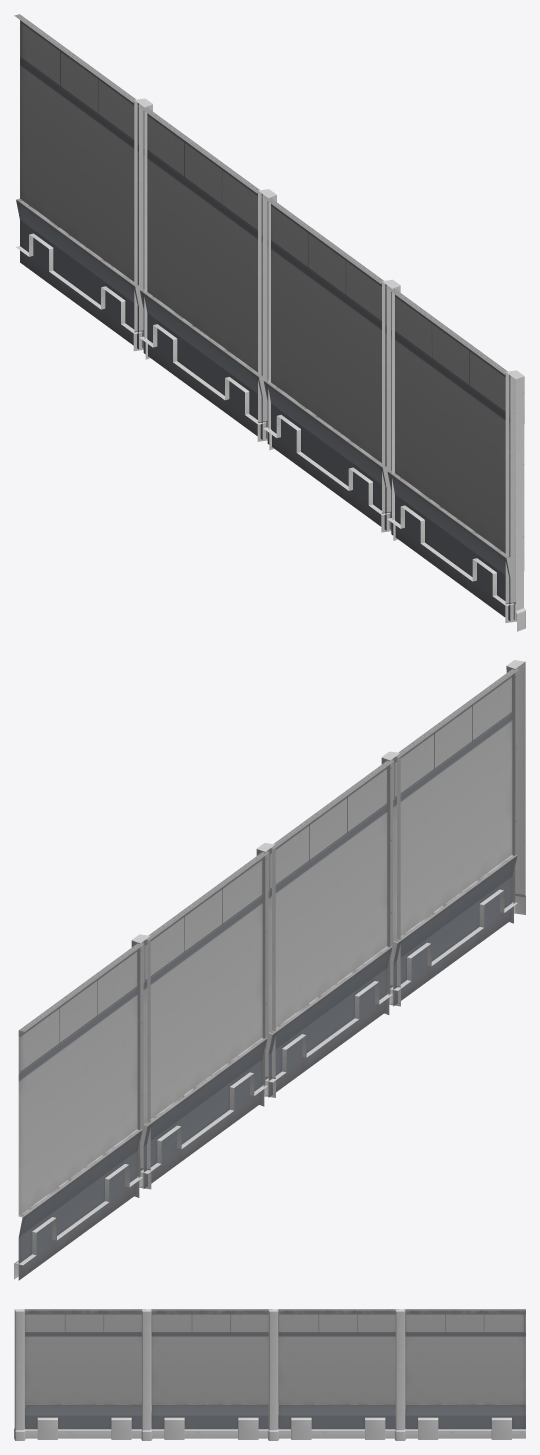
File: Pfb_JALB_WallPart2_Line__7.fbx
3 renders of one model, top to bottom at view 1: azimuth 30°, elevation 25°; view 2: azimuth 150°, elevation 25°; view 3: azimuth 270°, elevation 25°, orthographic. The views are drawn at different scales.
Parts seen in each view (by area): view 1: MAT_JLABWall; view 2: MAT_JLABWall; view 3: MAT_JLABWall.
Boxes of the visible parts, x1,y1,x2,y2 form: MAT_JLABWall: (14, 14, 525, 631); MAT_JLABWall: (14, 660, 525, 1280); MAT_JLABWall: (14, 1309, 525, 1440).
Bounding box in the file's own units: 0.2509 × 4.04 × 14.54.
1 material, 1 textured.
